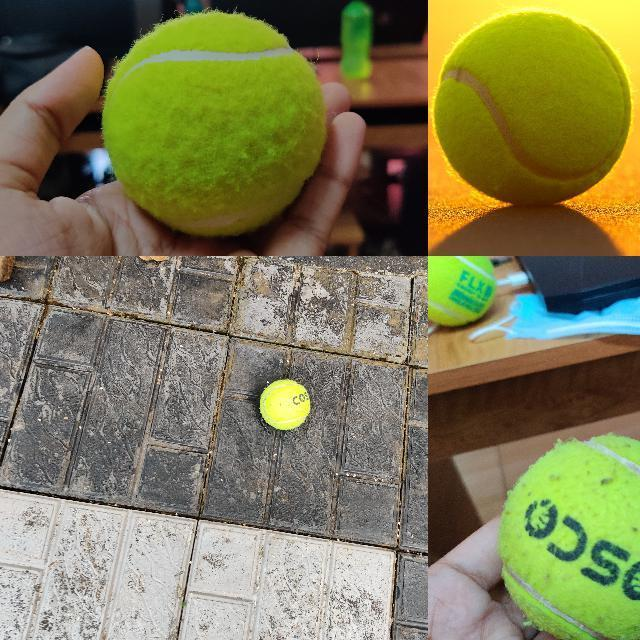tennis-ball: (103, 12, 326, 237), (431, 11, 631, 205), (498, 431, 639, 639), (428, 256, 496, 326), (259, 378, 311, 430)
